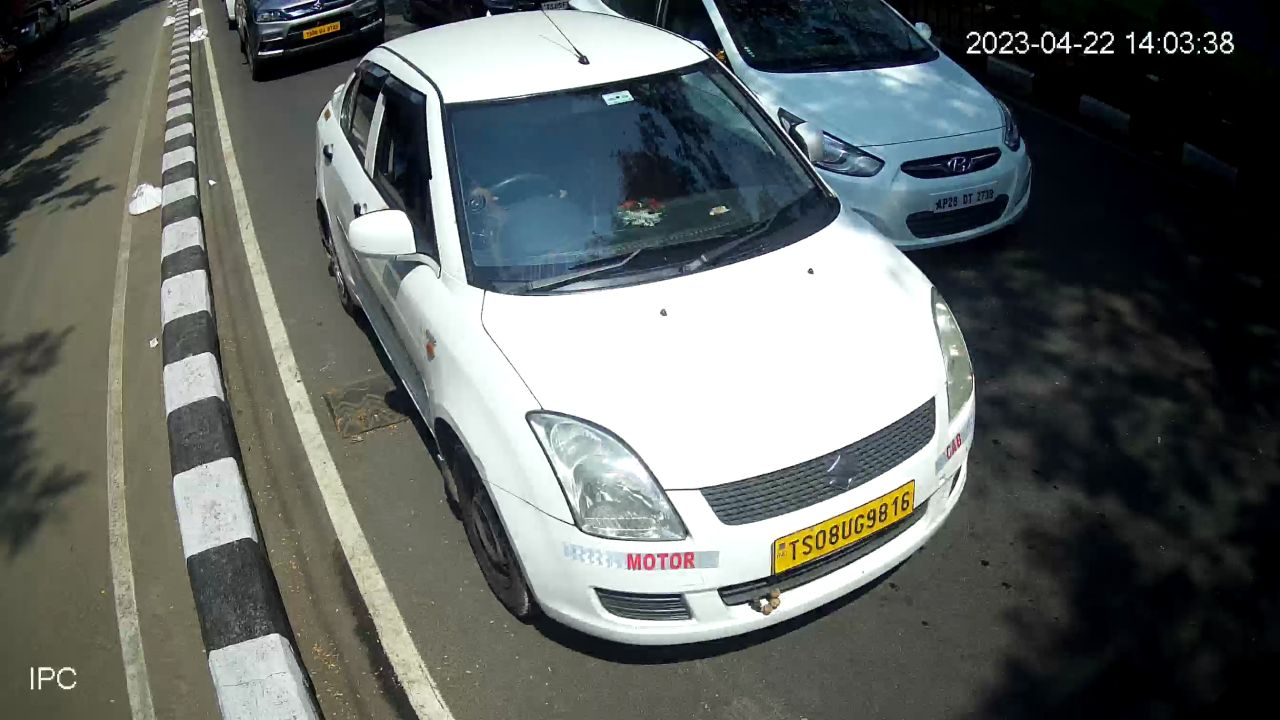license_plate: (770, 474, 921, 577), (922, 180, 1003, 220)
